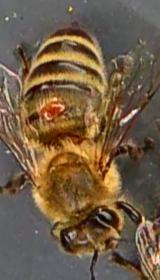varroa_mite: (35, 95, 73, 125)
